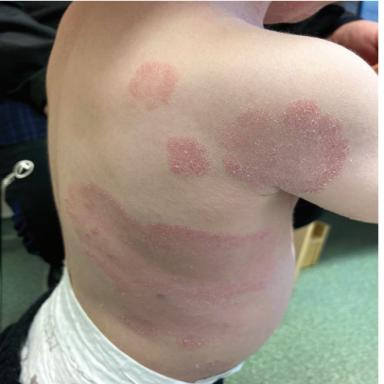Tinea-Corporis: (65, 183, 277, 348), (218, 99, 348, 195), (129, 61, 178, 110), (165, 137, 211, 177)
